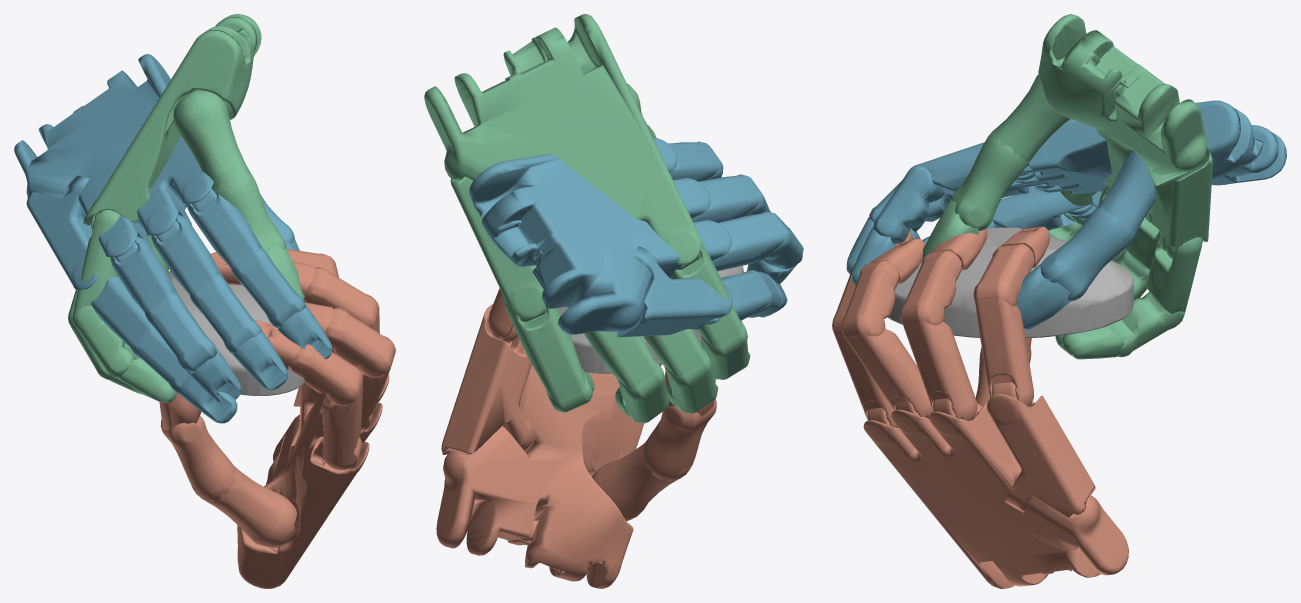
3 renders of one model, left to right at view 1: azimuth 30°, elevation 25°; view 2: azimuth 150°, elevation 25°; view 3: azimuth 270°, elevation 25°, orthographic. The views are drawn at different scales.
Bounding box in the file's own units: 0.1445 × 0.2781 × 0.2043.
